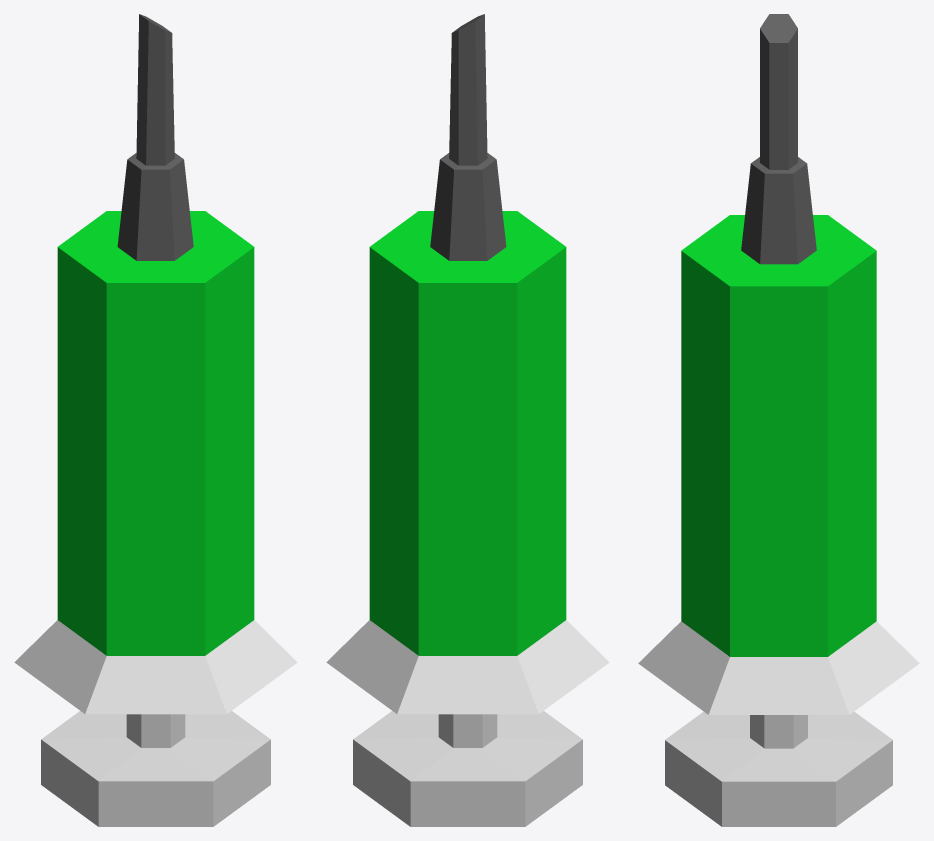
File: syringe.fbx
3 renders of one model, left to right at view 1: azimuth 30°, elevation 25°; view 2: azimuth 150°, elevation 25°; view 3: azimuth 270°, elevation 25°, orthographic.
Visible parts, largest first — view 1: 실린더, 실린더.001, 실린더.003, 실린더.002; view 2: 실린더, 실린더.001, 실린더.003, 실린더.002; view 3: 실린더, 실린더.001, 실린더.003, 실린더.002.
Part boxes in pixels (x1,y1,x2,y2): 실린더: (57,211,254,655); 실린더.001: (41,711,270,826); 실린더.003: (14,620,297,714); 실린더.002: (117,14,193,260); 실린더: (369,211,566,655); 실린더.001: (353,711,582,826); 실린더.003: (326,620,609,714); 실린더.002: (430,14,506,260); 실린더: (681,215,876,656); 실린더.001: (665,711,892,826); 실린더.003: (638,621,919,714); 실린더.002: (741,14,816,264).
Bounding box in the file's own units: 174 × 601 × 201.
